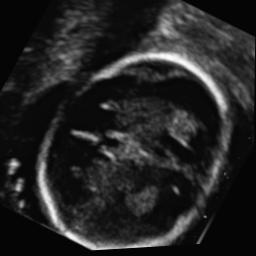normal: (2, 10, 256, 256)
